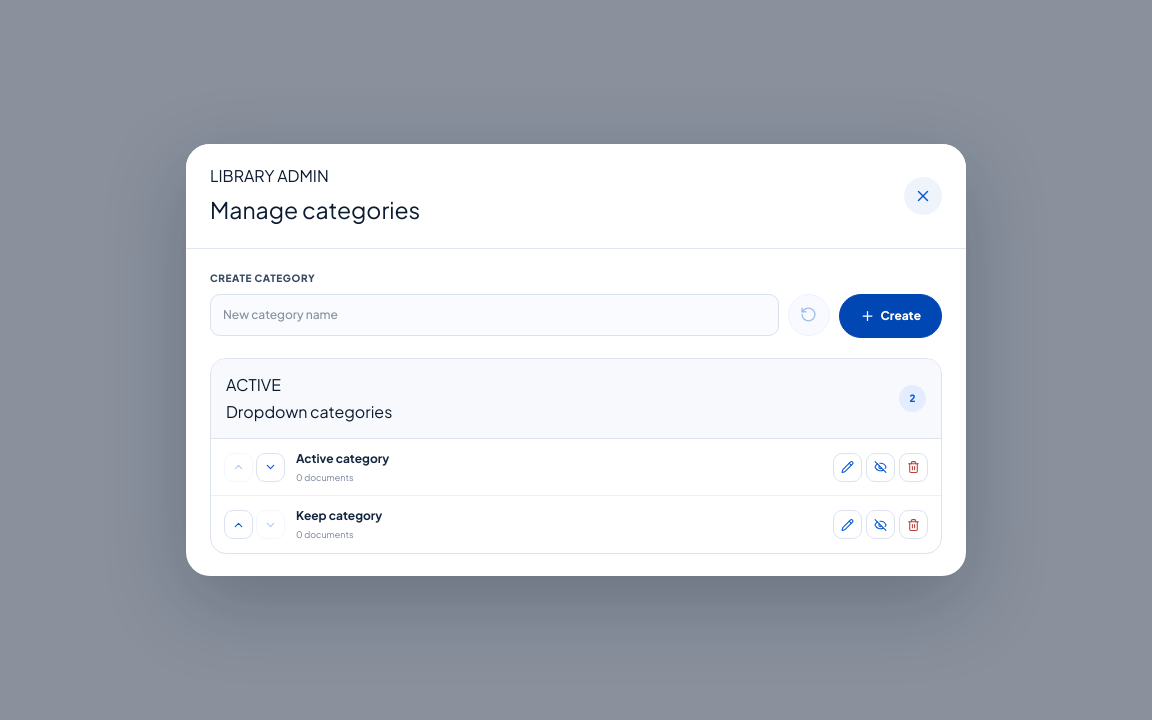
Test case: accessible controls › keeps category deletion errors visible in the category manager
The image size is (1152, 720).
Click the button named "Delete Active category" at (914, 467), box top-left (899, 452), bottom-right (928, 482)
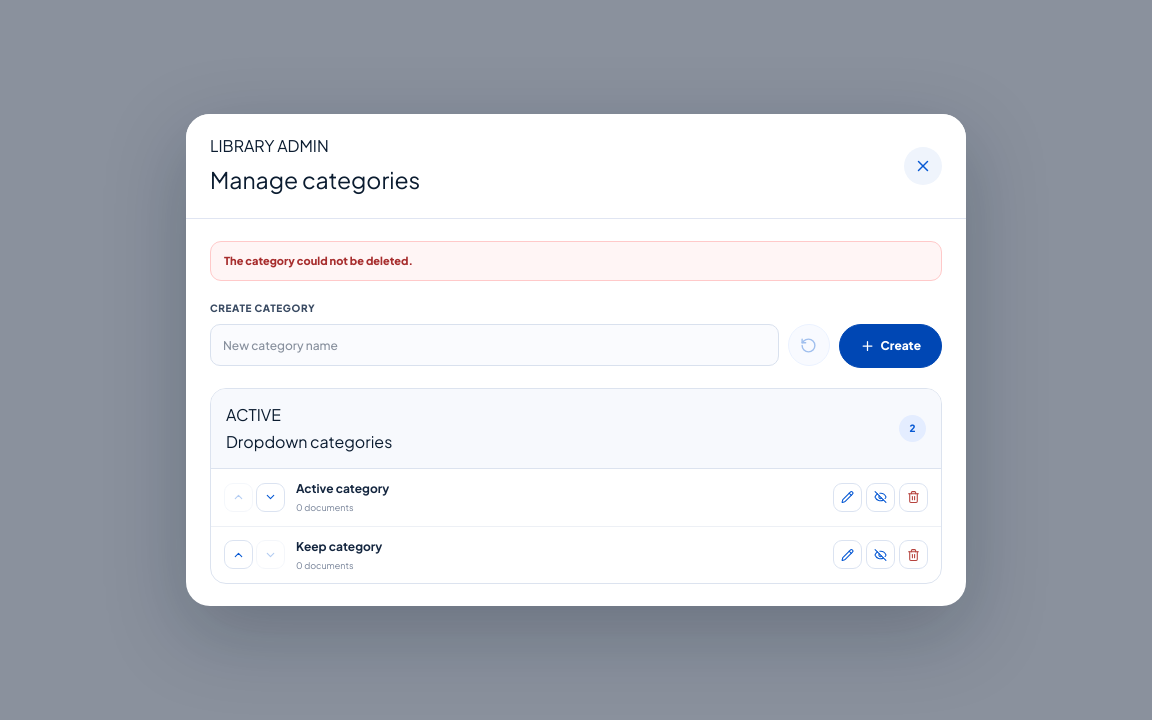
Expected: the message reads "The category could not be deleted.", top-left (224, 254), bottom-right (413, 266)
